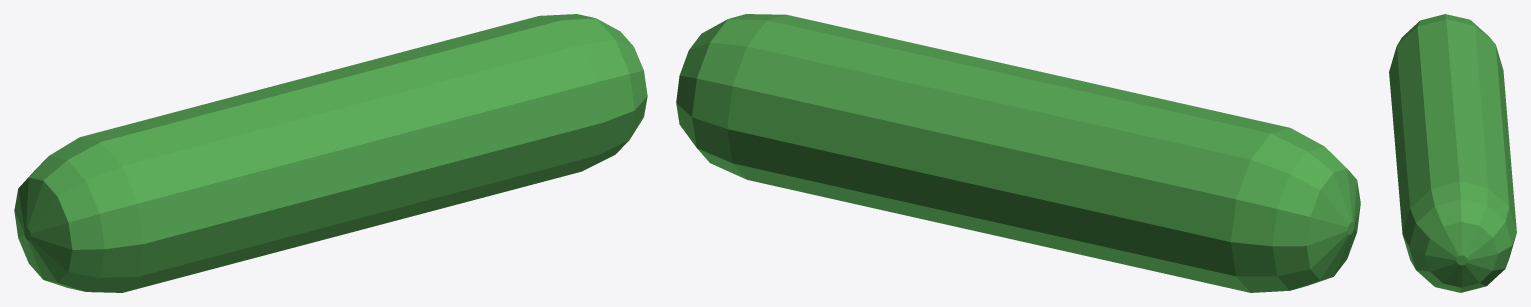
File: SM_Cucumber.fbx
The picture shows the model from 3 angles, left to right: view 1: azimuth 30°, elevation 25°; view 2: azimuth 150°, elevation 25°; view 3: azimuth 270°, elevation 25°; orthographic projection. The views are drawn at different scales.
Parts seen in each view (by area): view 1: cucumber; view 2: cucumber; view 3: cucumber.
Part boxes in pixels (x1,y1,x2,y2): cucumber: [14, 14, 647, 292]; cucumber: [676, 14, 1360, 292]; cucumber: [1389, 14, 1516, 292].
Bounding box in the file's own units: 83.13 × 18.69 × 20.87.
